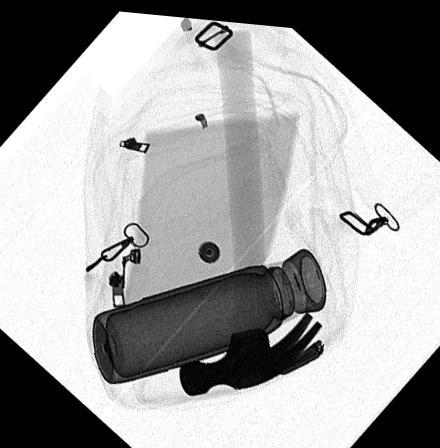Hammer: (177, 23, 324, 392)
